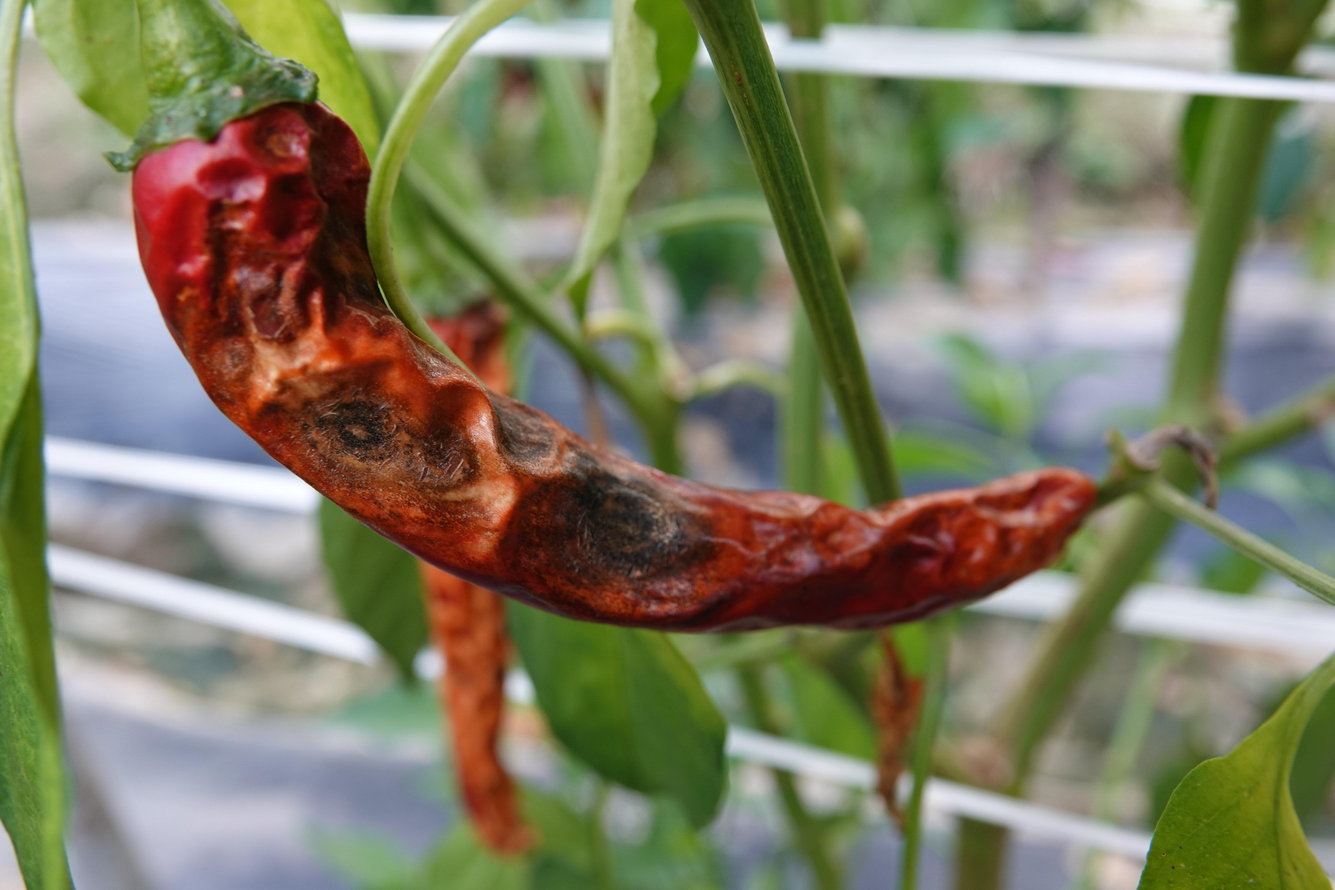Busuk Buah Antraknosa: (117, 54, 1111, 646)
